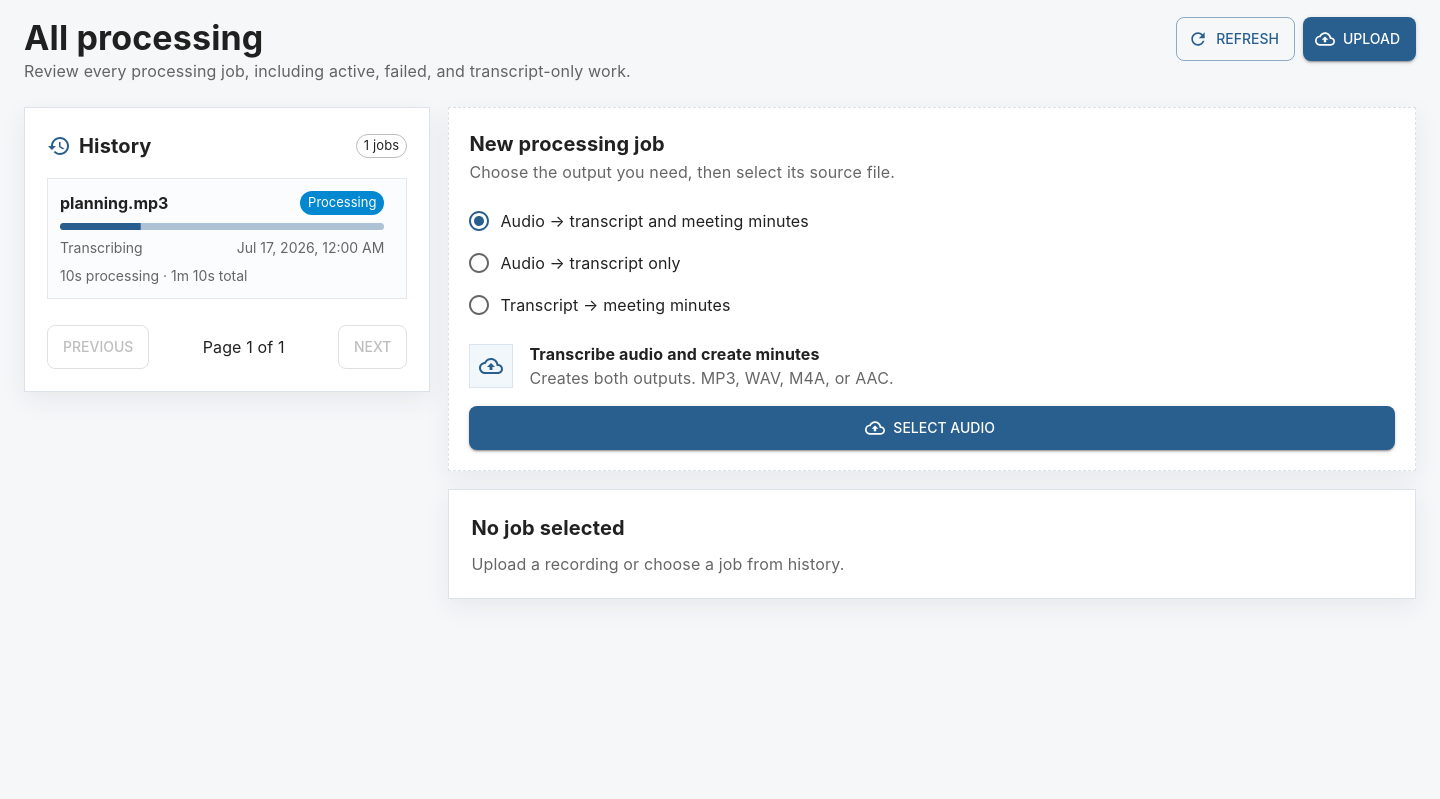
it: MeetingMind workflow › ticks active selected duration every second between API polls
Click the button "planning.mp3" at (114, 203), box [60,191,384,286]
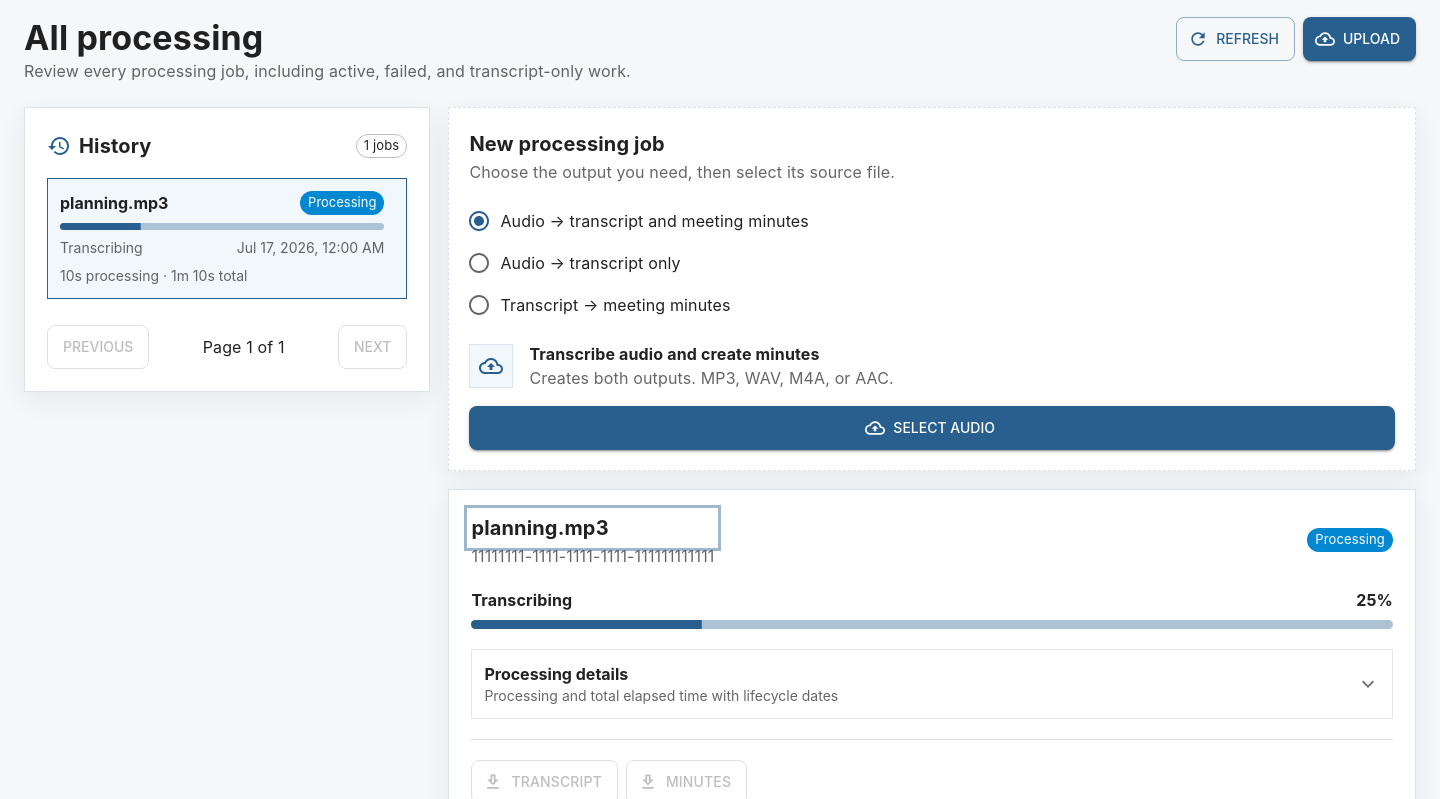
Click the button "Processing details" at (556, 674), box [472,650,1392,718]
(page scrolled)
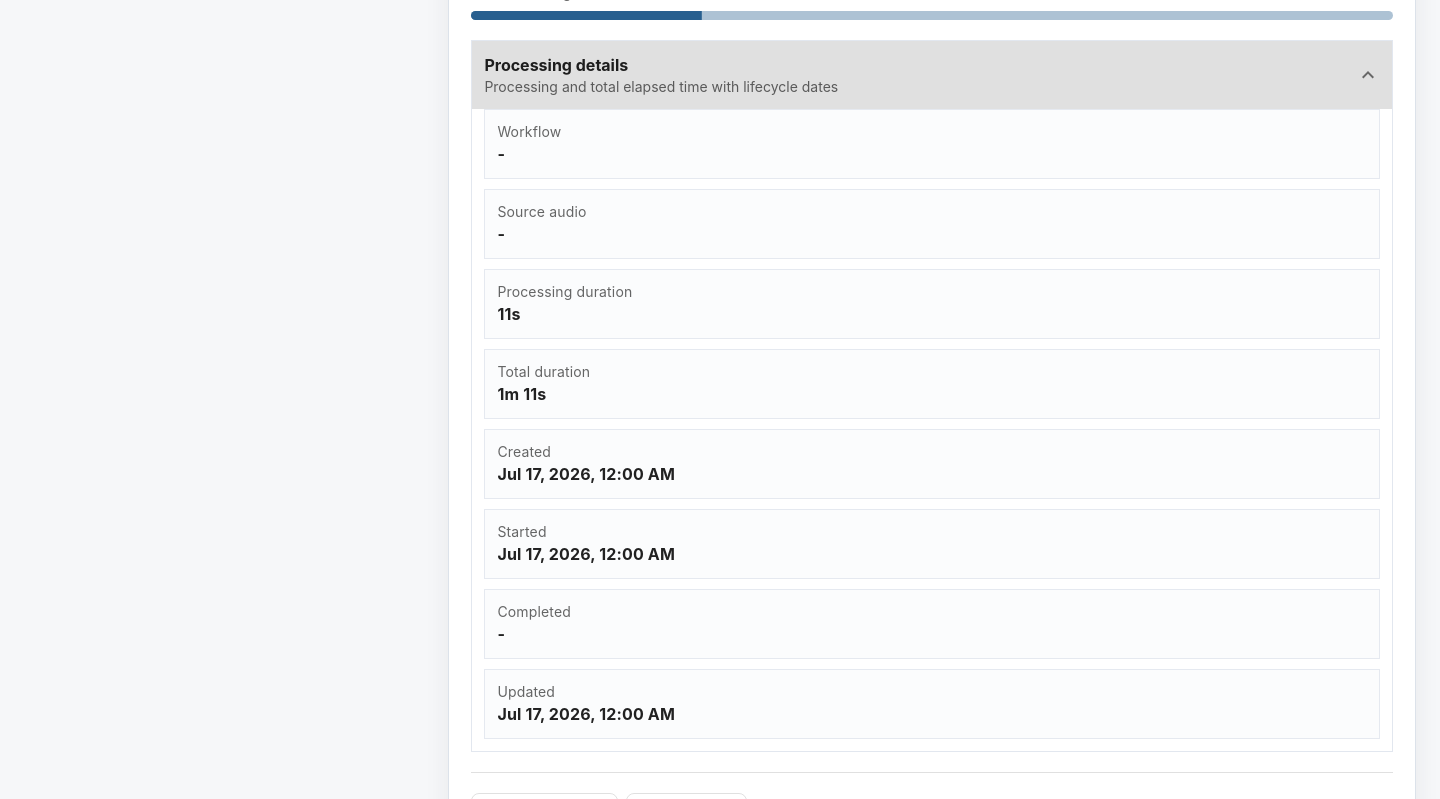
expect the text "11s" is shown: met, box [497,304,521,324]
expect the text "1m 11s" is shown: met, box [497,384,546,404]
